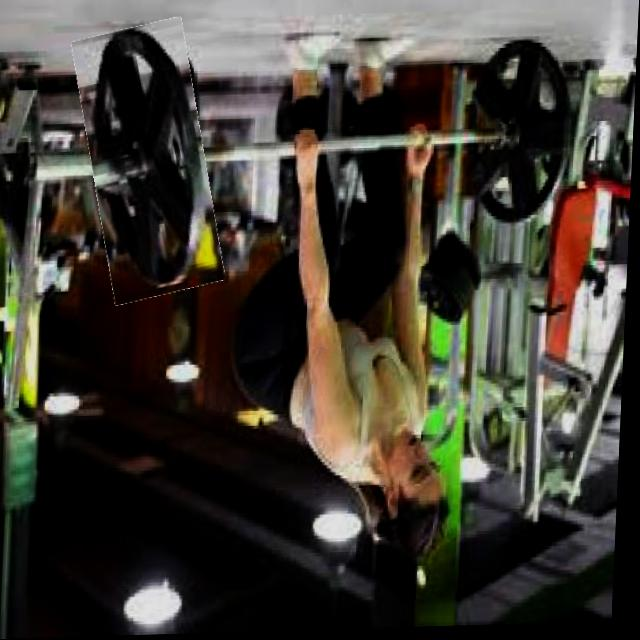barbell: (77, 22, 224, 304)
